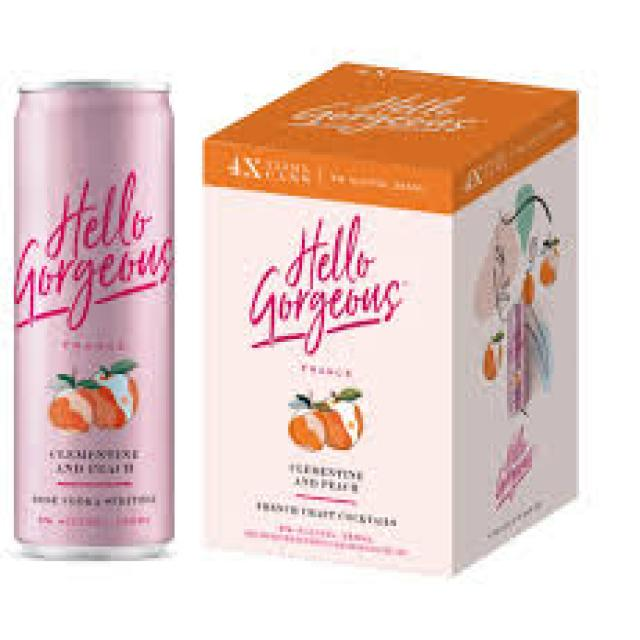Cans: (6, 70, 186, 567)
